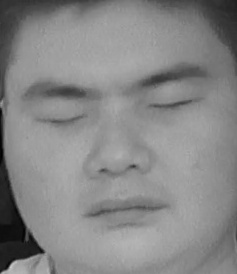blink: (143, 88, 200, 126), (33, 102, 87, 138)
mouth: (81, 188, 169, 237)
